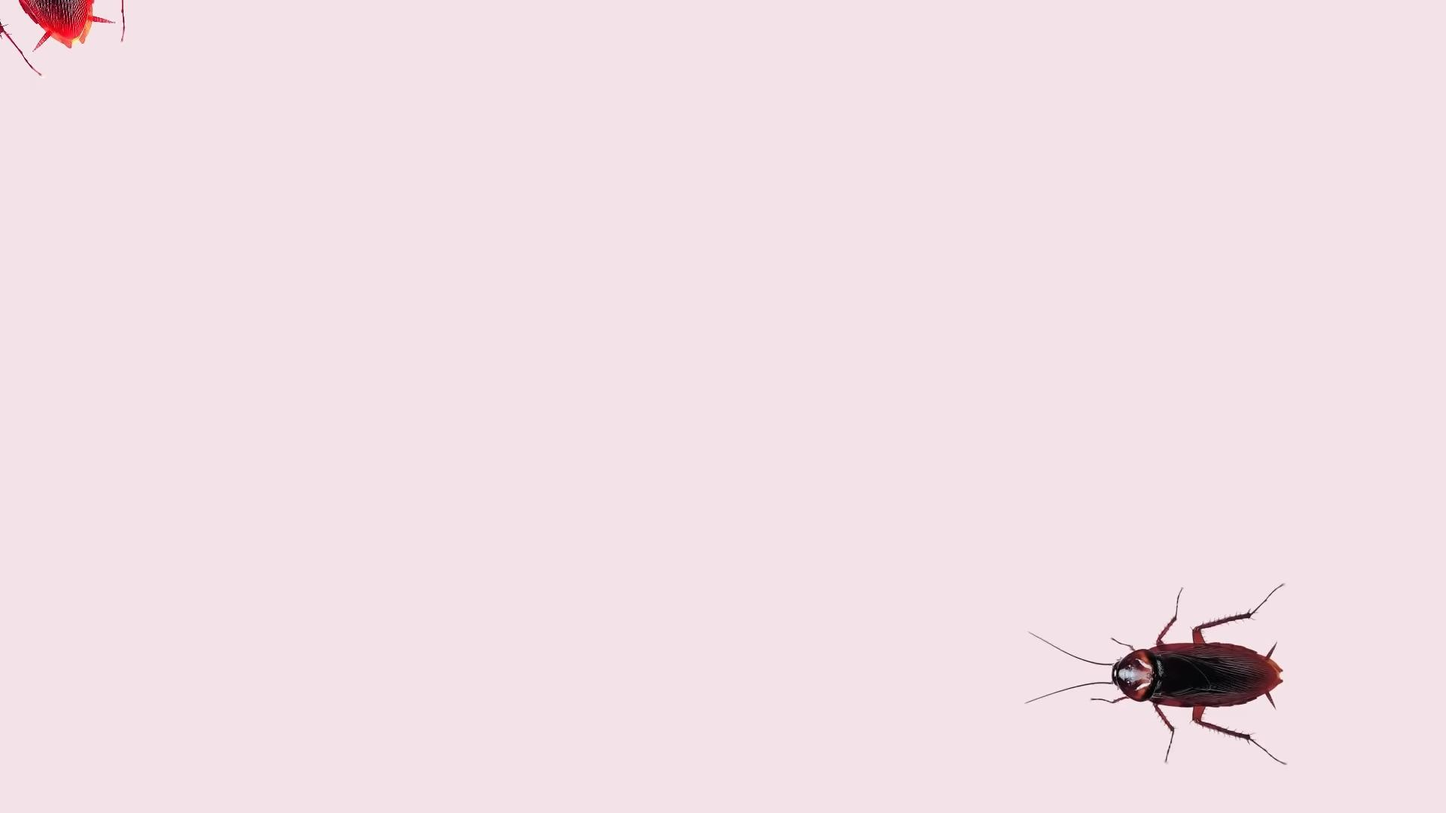cockroach: (1011, 586, 1287, 764)
